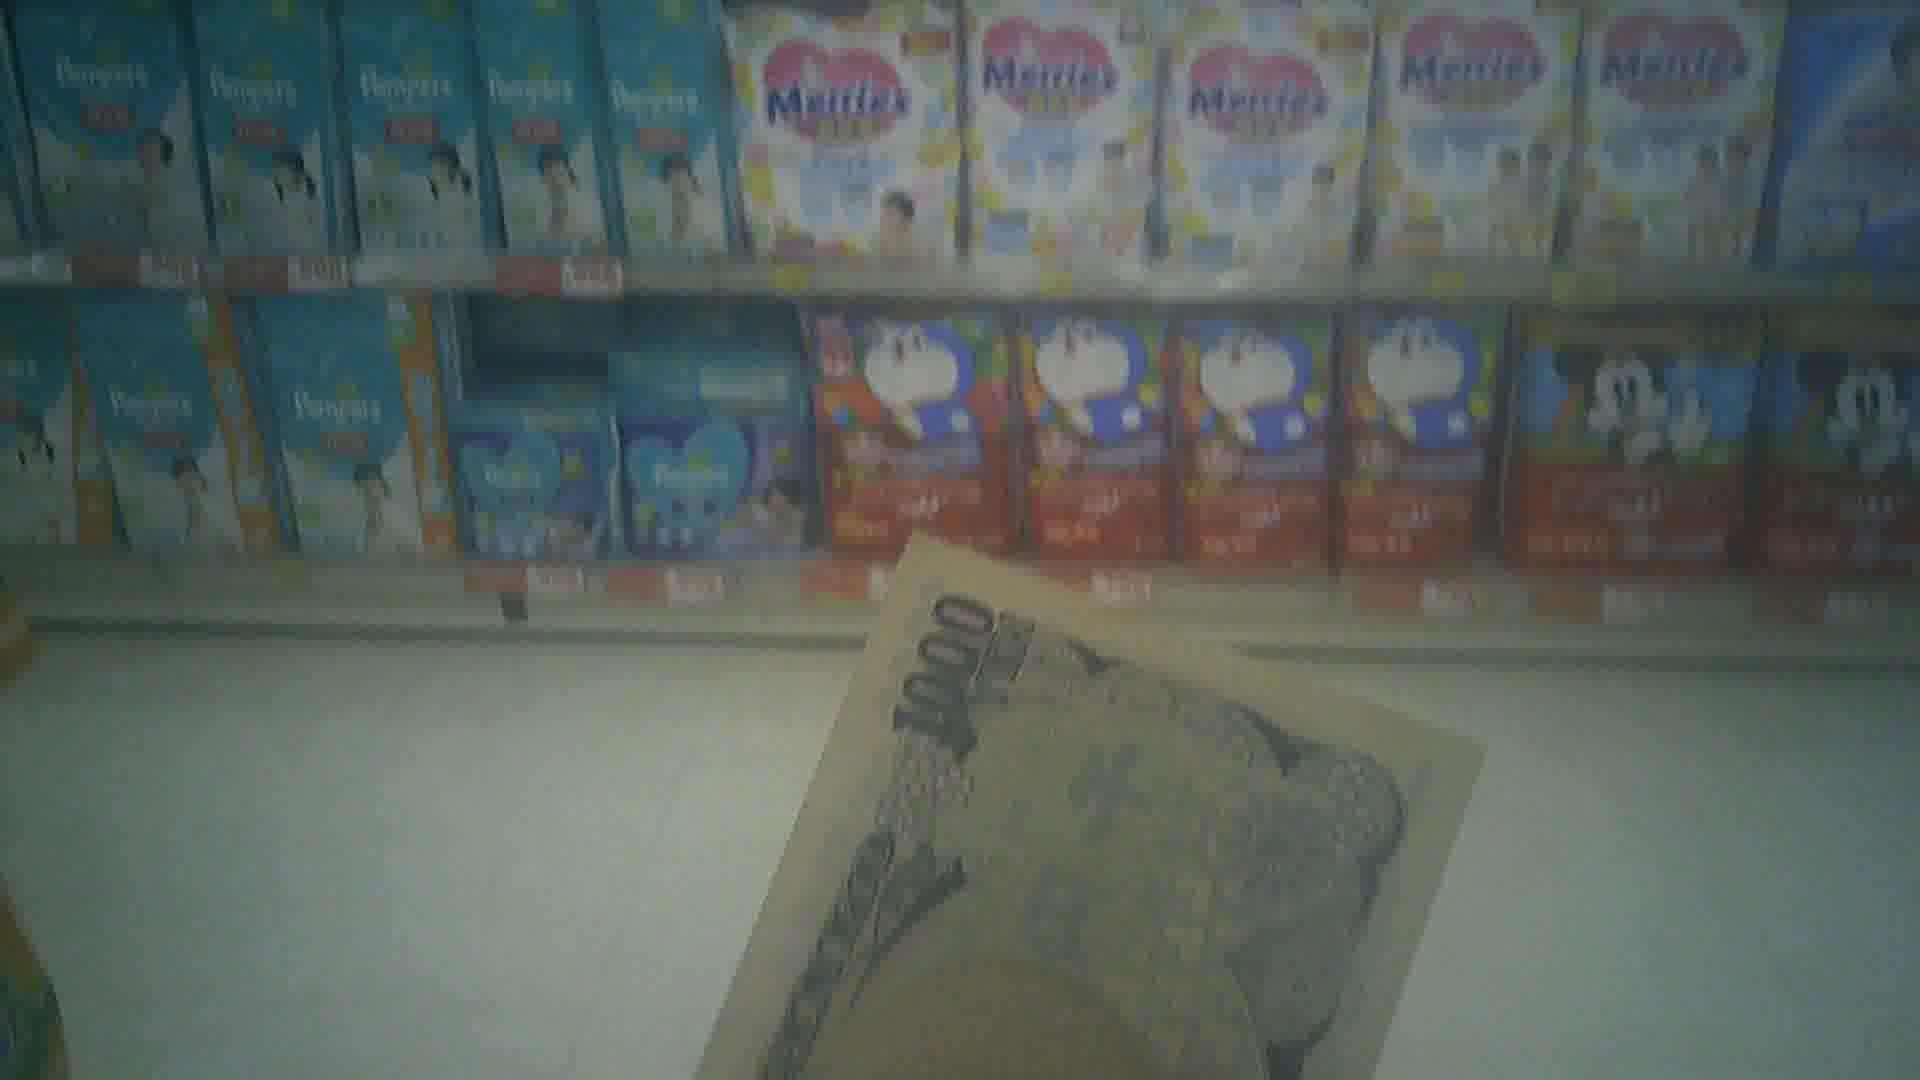1,000 Yen: (733, 516, 1441, 1079)
